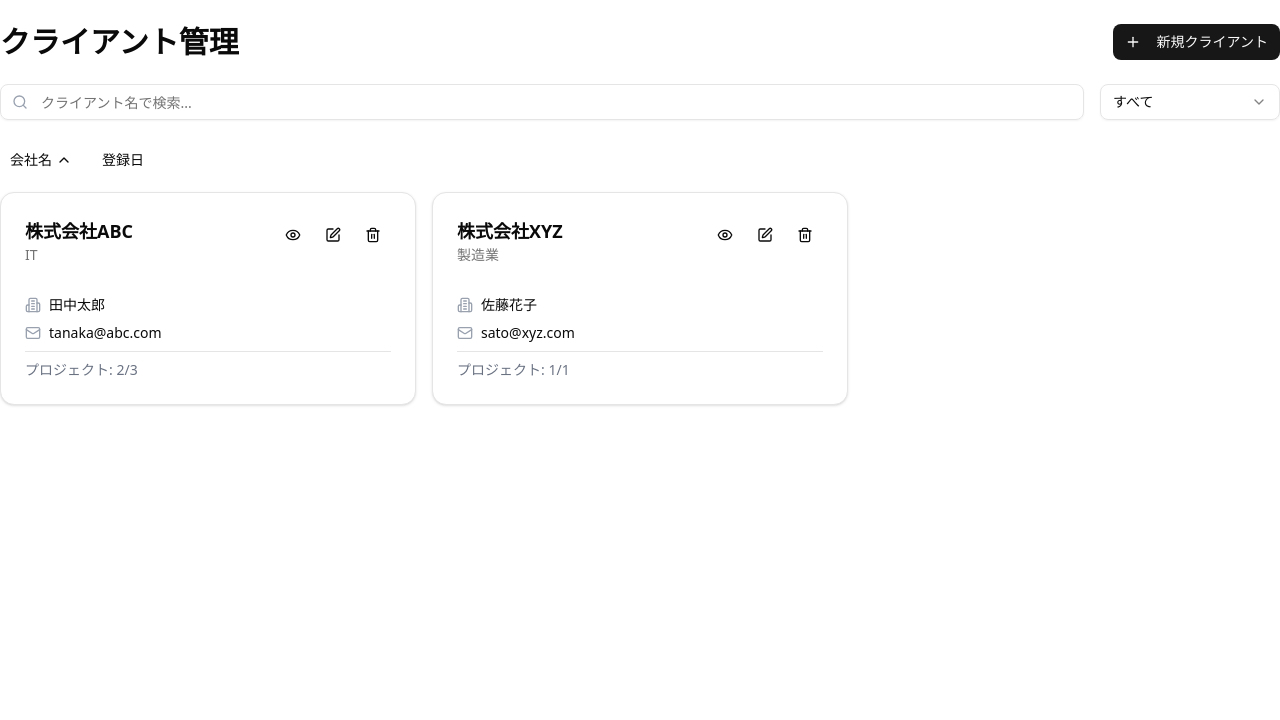
Test: Clients › 新規追加ボタンをクリックするとモーダルが表示される
Click the button "新規クライアント" at (1196, 42), box top-left (1112, 24), bottom-right (1279, 60)
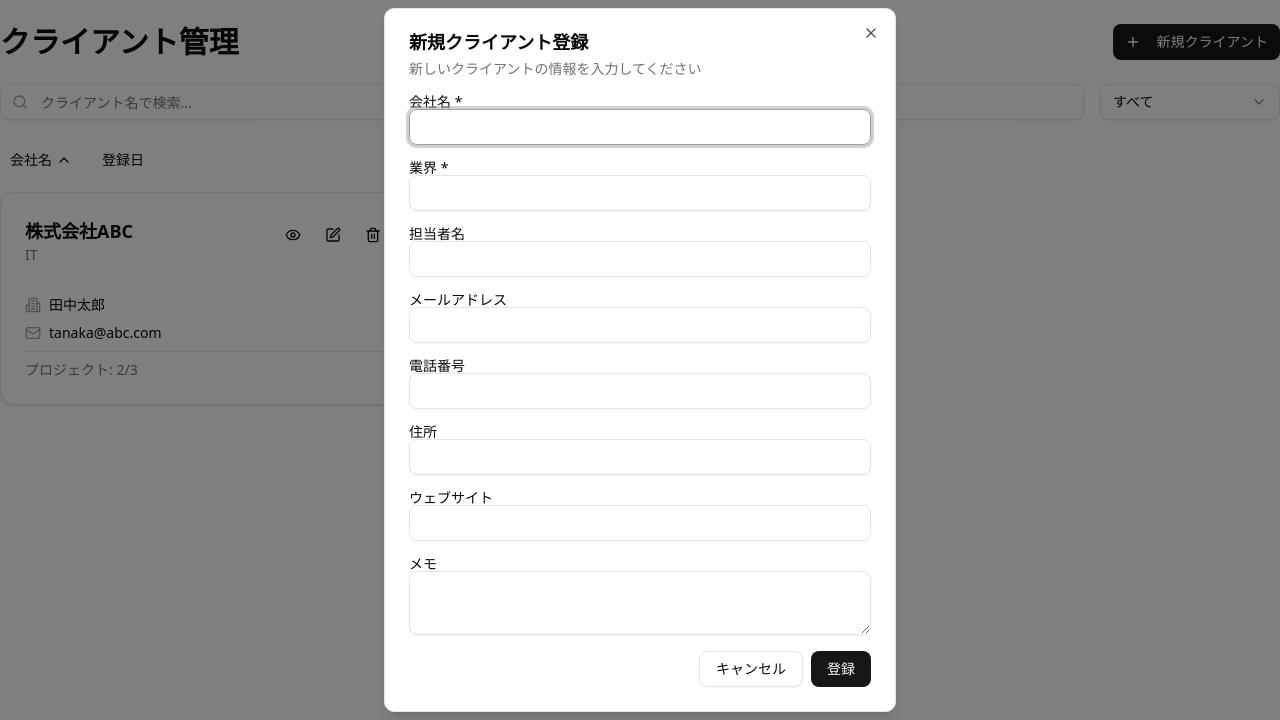
Result: the heading "新規クライアント登録" is shown at top-left (409, 30), bottom-right (588, 54)
